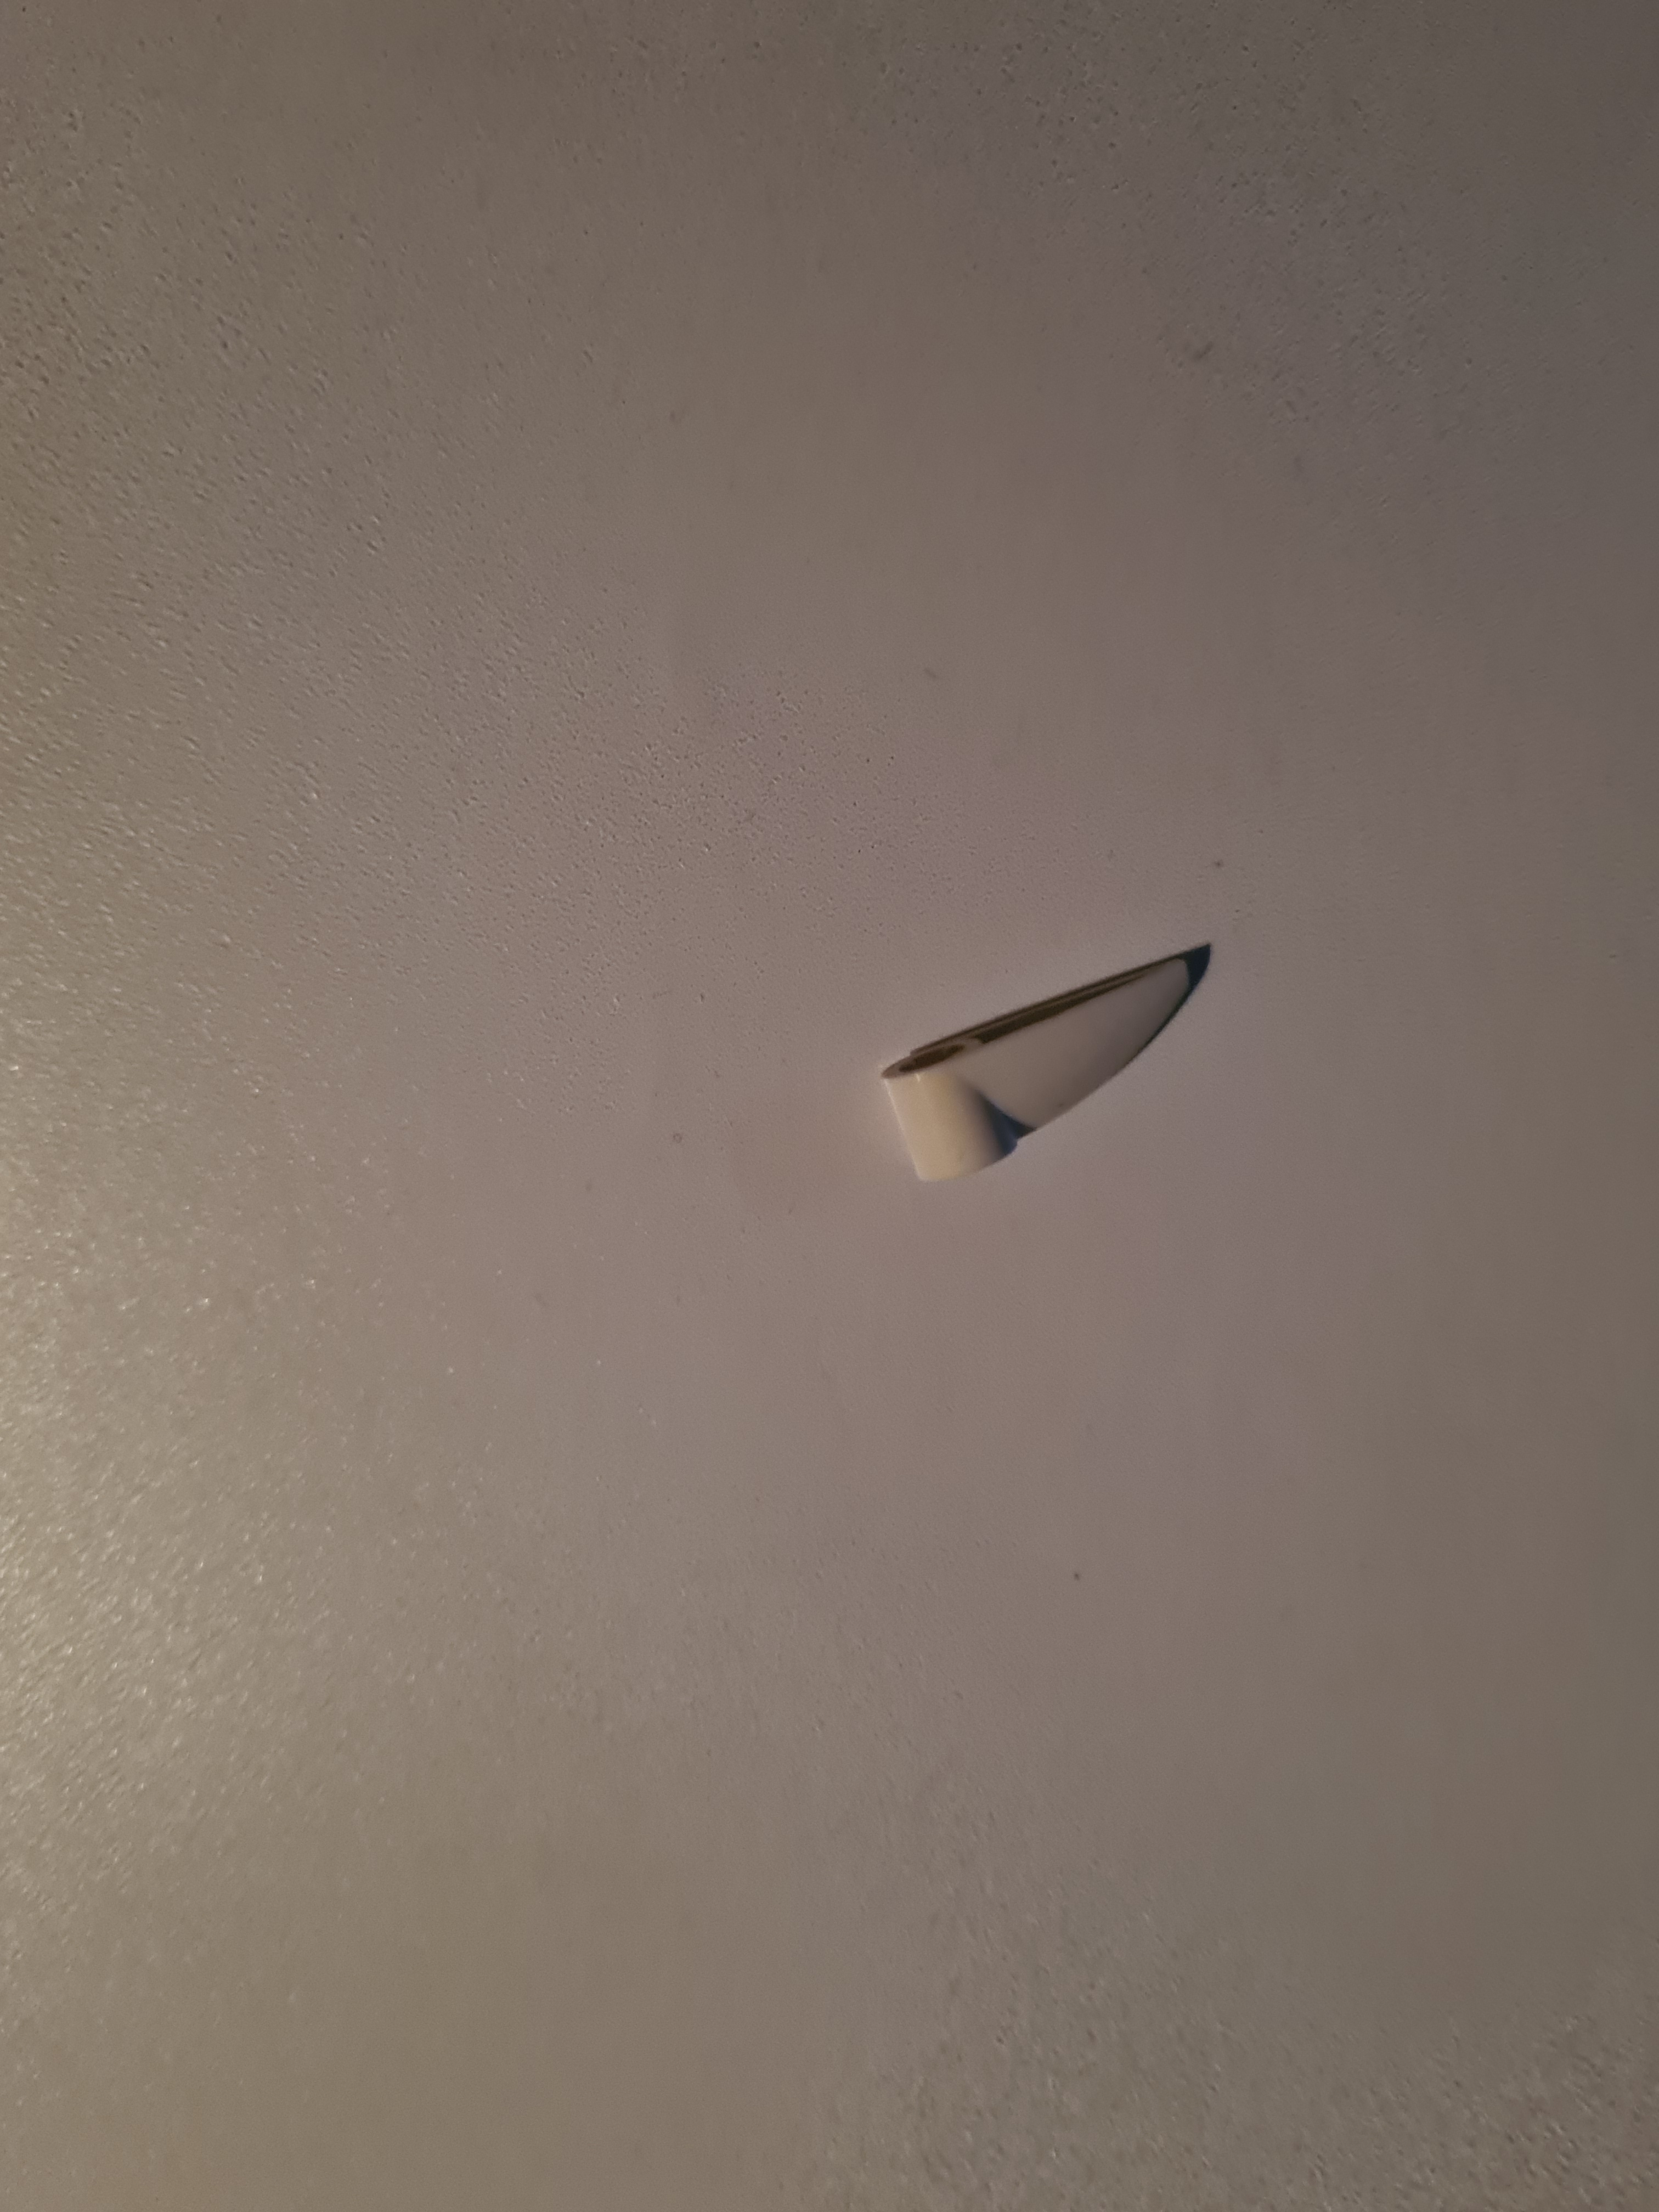Kappe: (868, 930, 1225, 1211)
